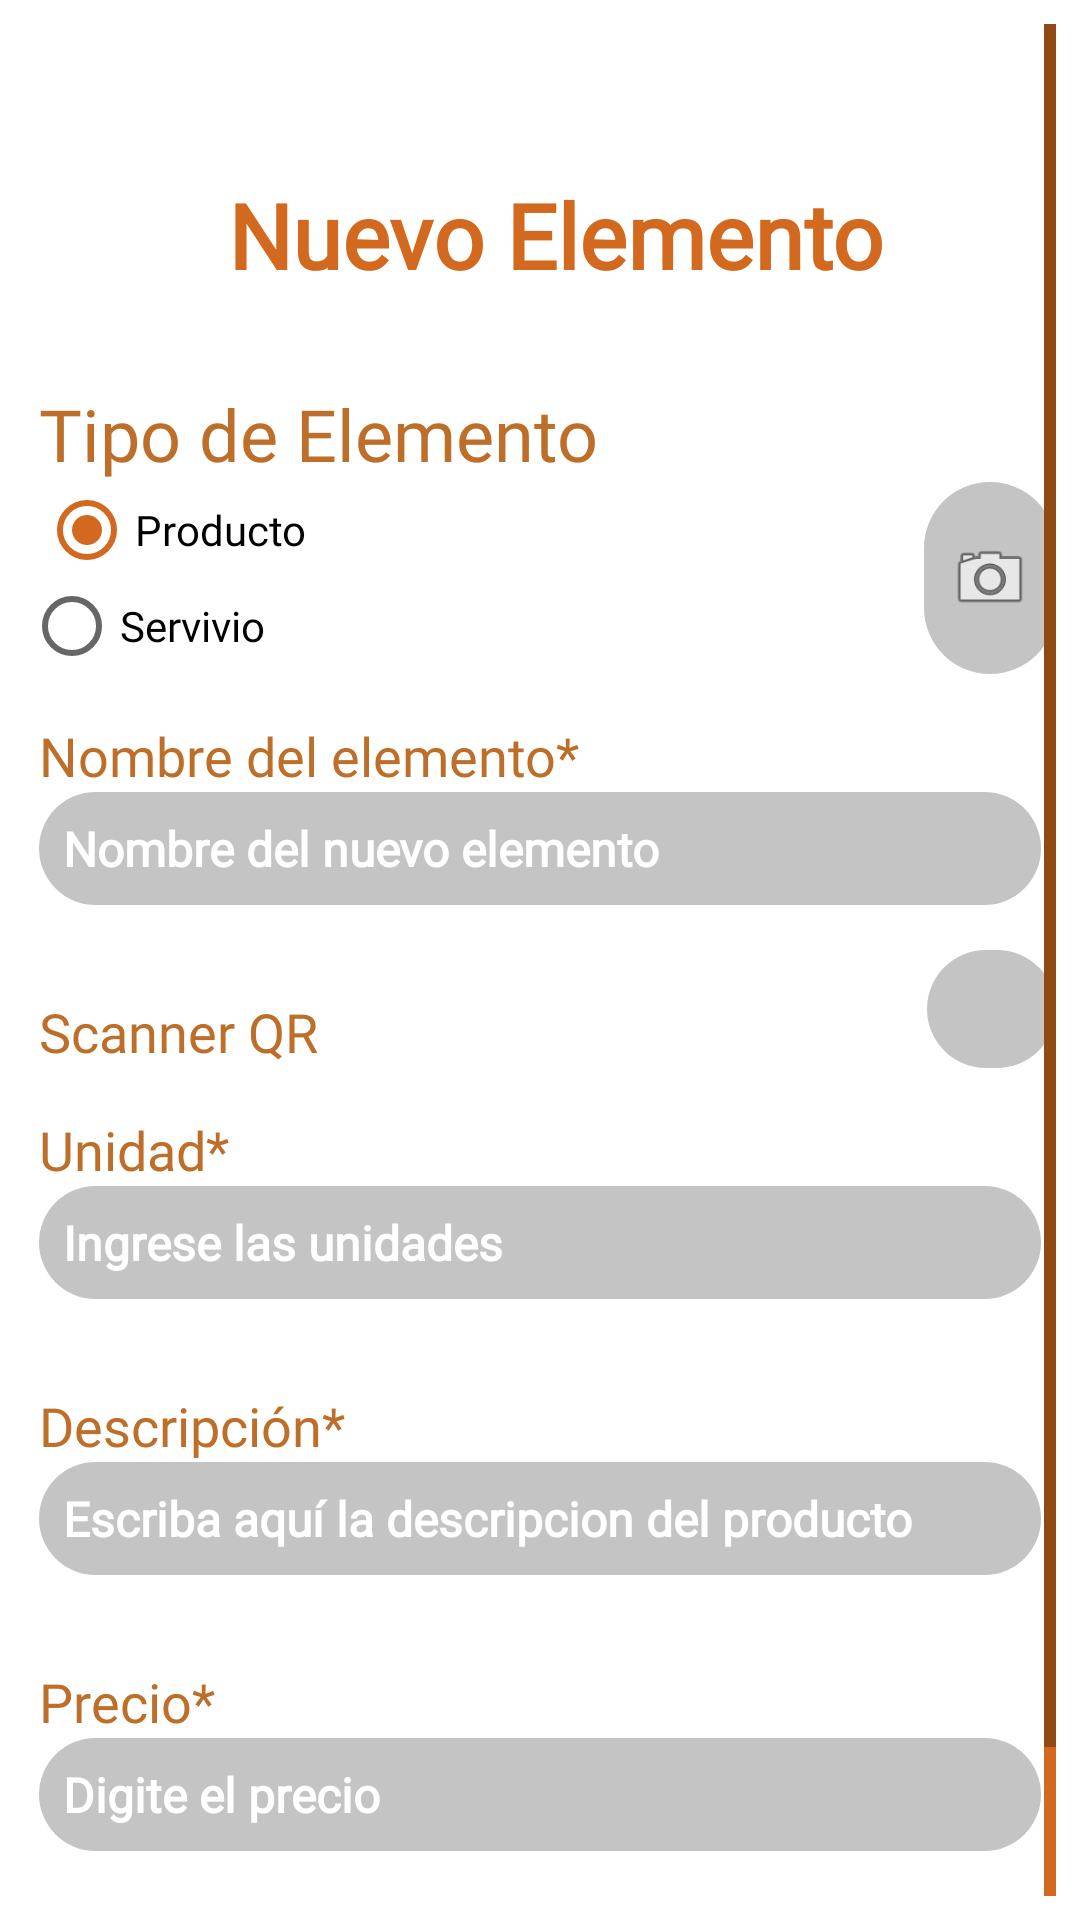

Where icons sit on this 1080x1920 app screen, as (x1, y1, x2, y2):
camera: (924, 482, 1056, 674)
